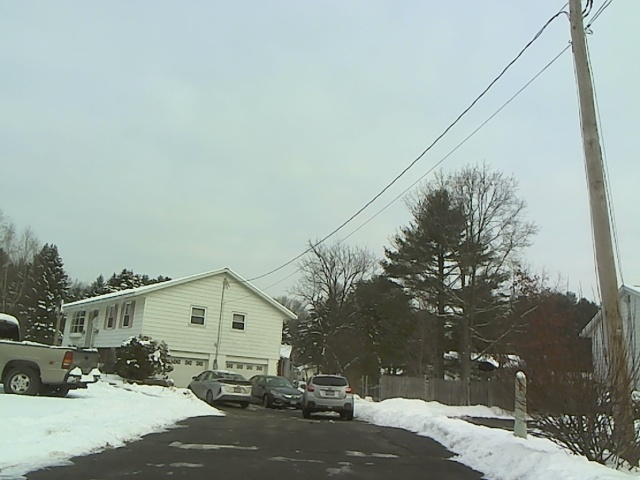Ploughed: (91, 414, 420, 476)
